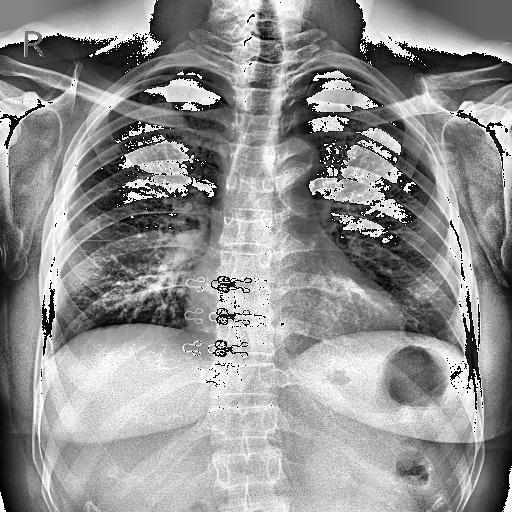0- Aortic enlargement: (270, 138, 318, 194), (265, 138, 321, 182)
3- Cardiomegaly: (180, 286, 414, 346), (184, 294, 407, 350)
